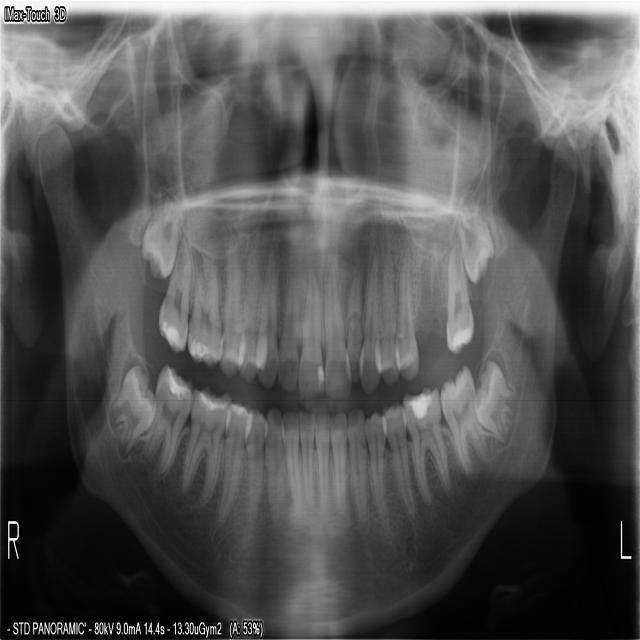LCD: (348, 405, 367, 513)
LCU: (358, 247, 381, 396)
LID: (331, 408, 352, 522), (316, 410, 331, 508)
LIU: (324, 240, 353, 404), (346, 243, 363, 383)
LMD: (403, 380, 450, 513), (440, 363, 492, 482), (474, 352, 515, 441)
LMU: (444, 244, 477, 357), (457, 210, 500, 291)
LPMD: (378, 397, 414, 519), (366, 408, 386, 527)
LPMU: (396, 251, 418, 382), (378, 244, 397, 388)
RCD: (264, 402, 289, 515)
RCU: (254, 241, 280, 388)
RID: (282, 405, 300, 508), (301, 410, 316, 516)
RIU: (298, 241, 324, 405), (277, 233, 301, 394)
RMD: (134, 362, 193, 483), (180, 387, 230, 508), (106, 355, 154, 451)
RMU: (152, 230, 194, 354), (186, 229, 223, 366), (135, 188, 184, 280)
RPMD: (215, 399, 250, 524), (243, 407, 266, 521)
RPMU: (236, 237, 261, 383), (220, 233, 240, 377)
